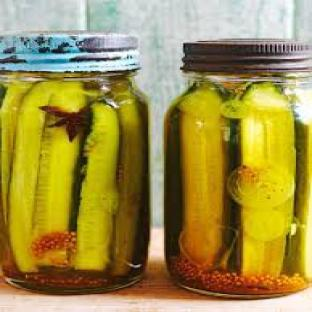Cucumber: (229, 84, 295, 275), (9, 81, 59, 272), (179, 85, 226, 266), (74, 103, 119, 269), (111, 84, 147, 275), (34, 115, 82, 240), (287, 90, 311, 279), (0, 81, 32, 219)
